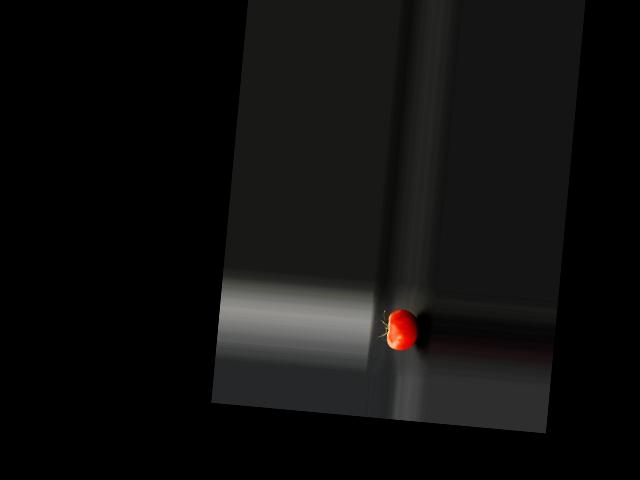tomato: (385, 308, 420, 352)
